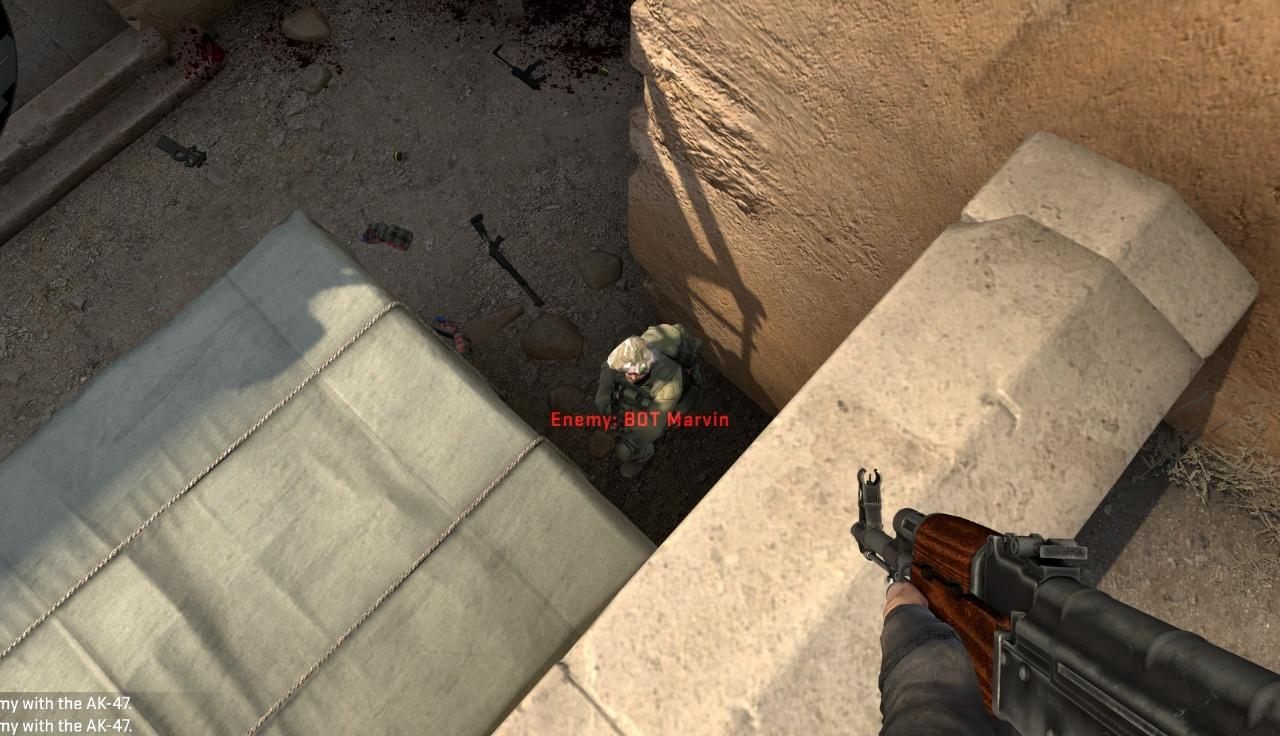ct: (596, 327, 690, 463)
cthead: (615, 337, 654, 385)
rifle: (851, 465, 1280, 736)
